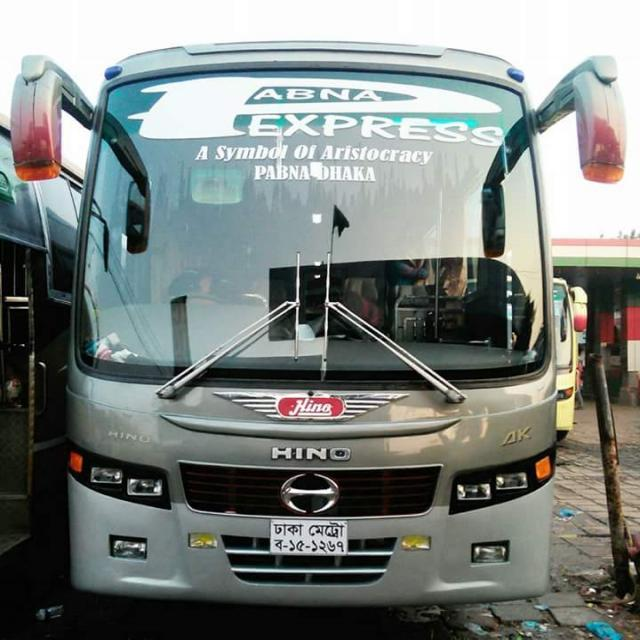Bus: (9, 15, 638, 627)
